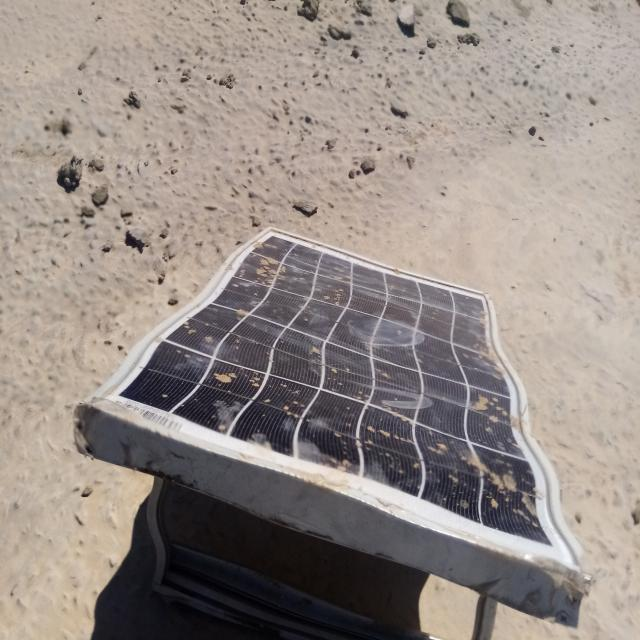faulty: (89, 226, 586, 574)
